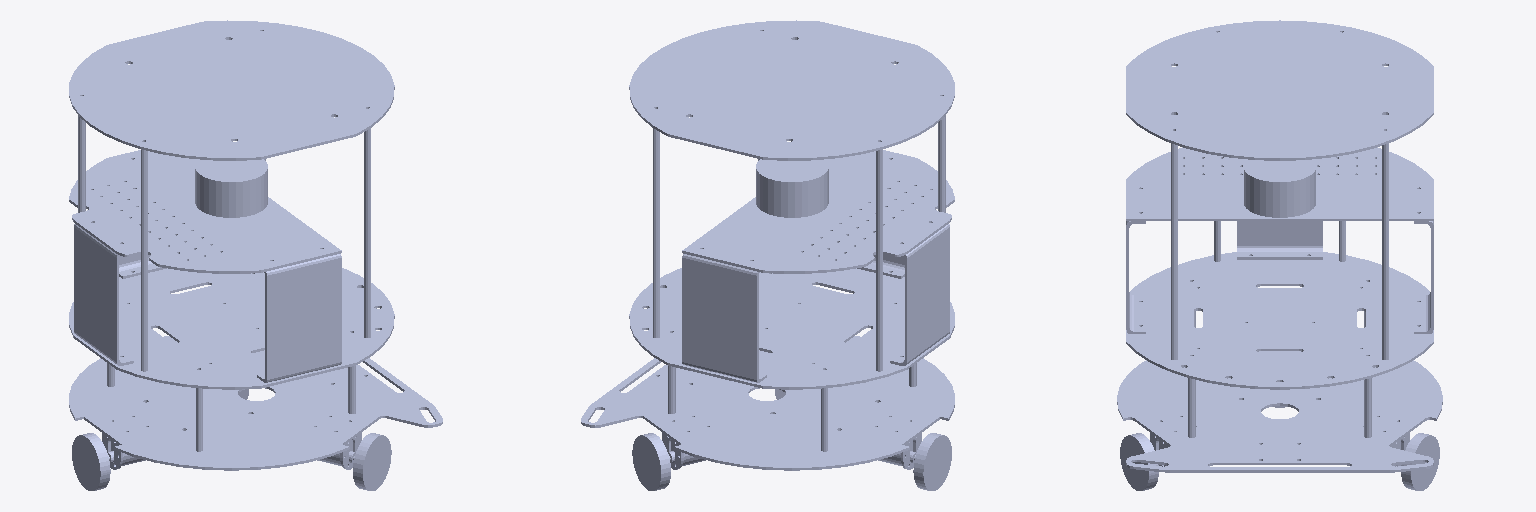
URDF robot description (carebot):
<robot name="carebot">

  <material name="blue">
    <color rgba="0.1 0.1 0.75 0.9"/>
  </material>

  <link name="base_link">
    <inertial>
      <origin
        xyz="-0.00915640899856677 -1.23594917594765E-18 0.116771439156292"
        rpy="0 0 0" />
      <mass
        value="1.53513901604802" />
      <inertia
        ixx="0.0429859907839231"
        ixy="1.40607469244214E-18"
        ixz="0.00161915133178891"
        iyy="0.0421680076448672"
        iyz="-2.37846851589008E-18"
        izz="0.0250023780420302" />
    </inertial> 
    <visual>
      <origin
        xyz="0 0 0"
        rpy="0 0 0" />
      <geometry>
        <mesh filename="package://carebot_description/meshes/base_link.STL" />
      </geometry>
      <material
        name="">
        <color rgba="0.792156862745098 0.819607843137255 0.933333333333333 1" />
      </material>
    </visual>
    <collision>
      <origin
        xyz="0 0 0"
        rpy="0 0 0" />
      <geometry>
        <mesh filename="package://carebot_description/meshes/base_link.STL" />
      </geometry>
    </collision>
  </link>

  <link name="base_footprint">
    <visual>
        <geometry>
          <box size="0.005 0.005 0.005" />
        </geometry>
    </visual>
  </link>
  <joint name="base_footprint_joint" type="fixed">
    <origin xyz="0 0 0.06"/>
    <parent link="base_footprint"/>
    <child link="base_link"/>
  </joint>

  <link name="base_imu_link" type="fixed">
    <visual>
      <geometry>
        <box size="0.025 0.018 0.003"/>
      </geometry>
      <material name="blue"/>
    </visual>
  </link>
  <joint name="base_link_to_IMU" type="fixed">
    <origin xyz="0 0 0.094"/>
    <parent link="base_link"/>
    <child link="base_imu_link"/>
  </joint>

  <link name="laser" type="fixed">
    <inertial>
      <origin>
        xyz="0 0 0"
        rpy="0 0 0"
      </origin>
      <mass value="0.19" />
      <inertia
        ixx="0.0429859907839231"
        ixy="1.40607469244214E-18"
        ixz="0.00161915133178891"
        iyy="0.0421680076448672"
        iyz="-2.37846851589008E-18"
        izz="0.0250023780420302" />
    </inertial>
    <visual>
      <origin>
        xyz="0 0 0"
        rpy="1.57079 0 0"
      </origin>
      <geometry>
        <cylinder length="0.042" radius="0.038" />
      </geometry>
      <material name="">
        <color rgba="0.79216 0.81961 0.9333 0.5" />
      </material>
    </visual>
    <collision>
      <origin>
        xyz="0 0 0"
        rpy="1.57.79 0 0"
      </origin>
      <geometry>
        <cylinder length="0.042" radius="0.038" />
      </geometry>
    </collision>
  </link>
  <joint name="lidar_to_imu" type="fixed">
    <origin xyz="0 0 0.155"/>
    <parent link="base_imu_link"/>
    <child link="laser"/>
  </joint>

</robot>

--- Render facts (derived) ---
Views: 3 orthographic renders of the robot side by side, from view 1: azimuth 30°, elevation 25°; view 2: azimuth 150°, elevation 25°; view 3: azimuth 270°, elevation 25°.
Robot: carebot — 4 links, 3 joints (3 fixed); root link base_footprint; default pose: all joints at 0.
Links seen in each view (by area): view 1: base_link, laser; view 2: base_link, laser; view 3: base_link, laser.
Link boxes in pixels (<box>): base_link: <box>69,20,442,490</box>; laser: <box>195,159,267,217</box>; base_link: <box>581,20,954,490</box>; laser: <box>756,159,828,217</box>; base_link: <box>1117,20,1442,490</box>; laser: <box>1244,160,1315,217</box>.
Size in the robot's own frame: 0.35 by 0.3398 by 0.4215 metres.
Meshes: 1 distinct files referenced, 1 mesh visuals loaded (1 binary STL).